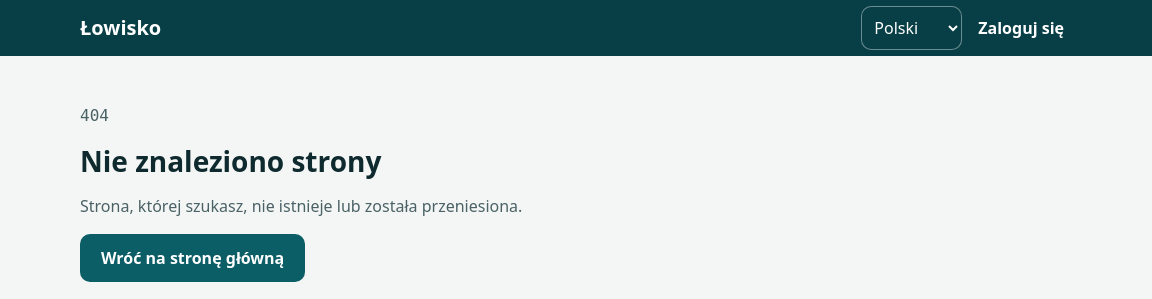
Test: language switcher › switches the interface language, the page lang and remembers the choice
The image size is (1152, 299).
Select "English" in the dropdown named "Język" at [912, 28], box [861, 6, 962, 50]
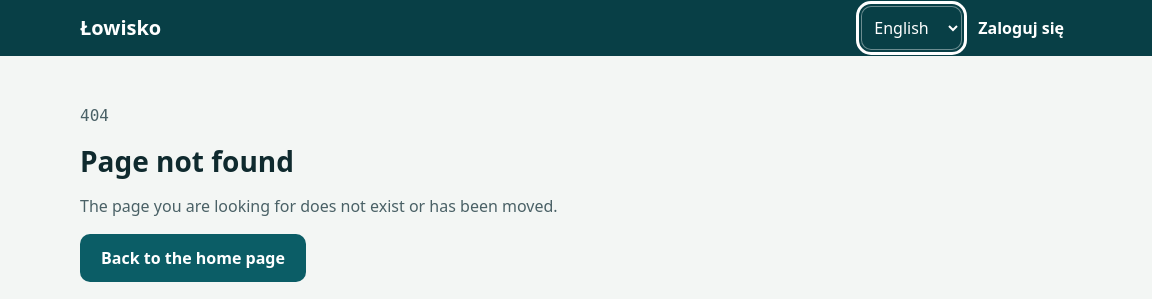
Expected: the heading "Page not found" is shown, [80, 144, 294, 178]
